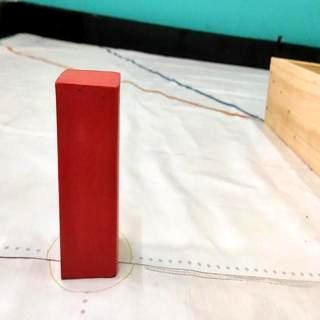redbox: (55, 69, 122, 282)
